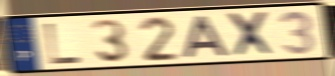2: (137, 14, 180, 62)
3: (278, 8, 317, 56), (91, 18, 131, 64)
A: (182, 13, 233, 60)
L: (43, 21, 84, 66)
X: (224, 10, 279, 59)
